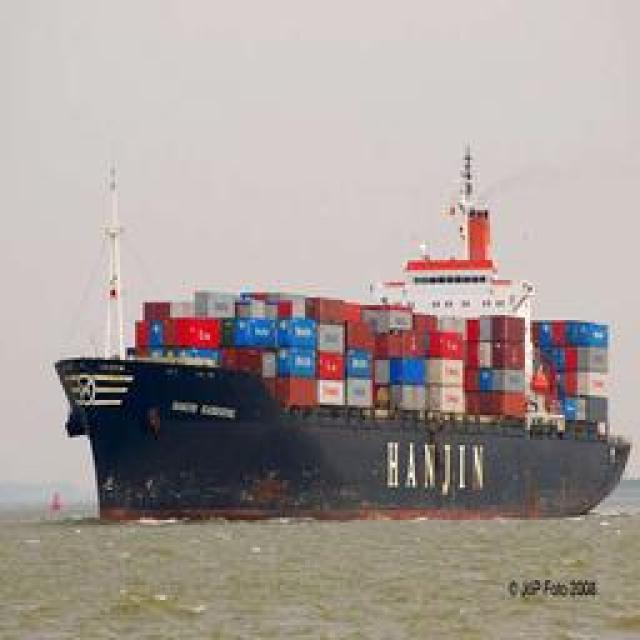CIV_Ship: (55, 119, 635, 514)
